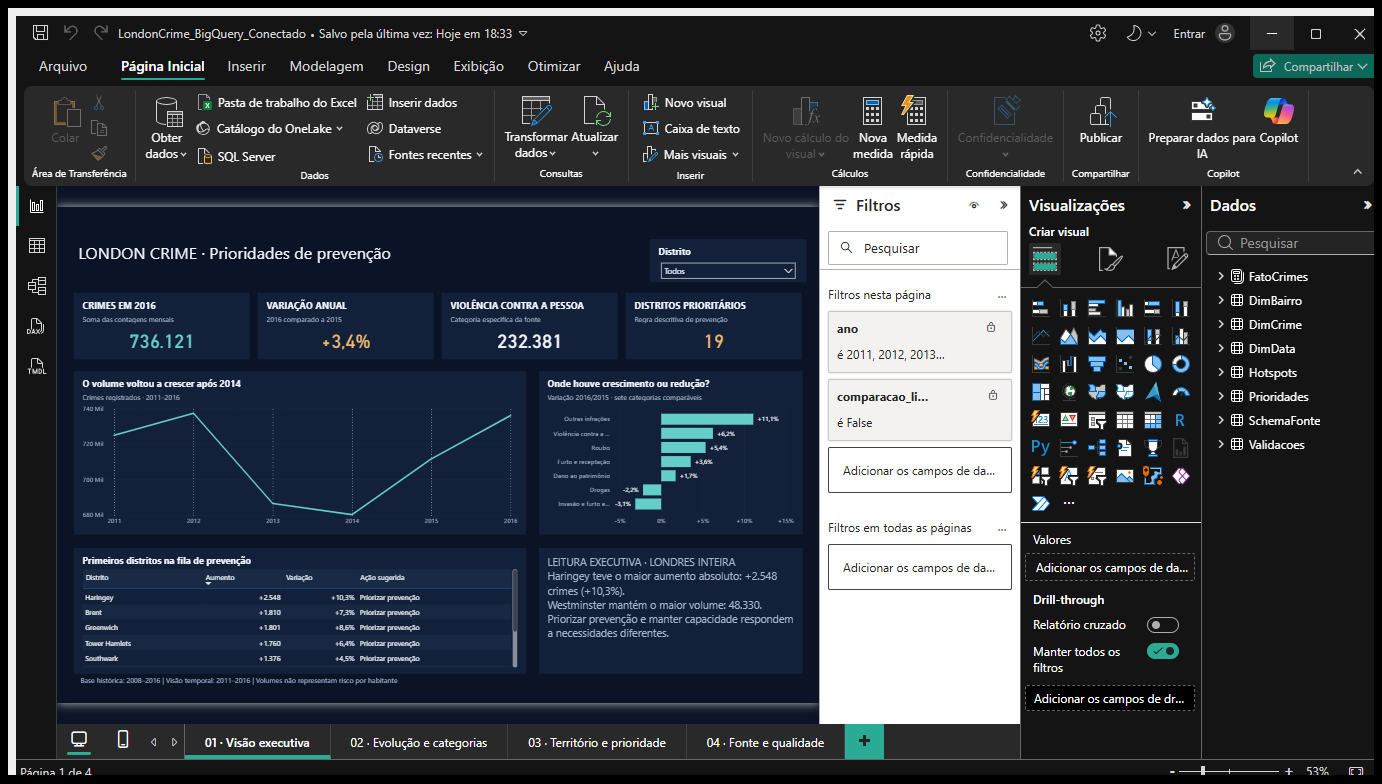

The page's visual inventory and layout, read from the dashboard file:
{"tool":"powerbi","page":{"name":"01 · Visão executiva","canvas":[1440,900],"ordinal":0},"visuals":[{"type":"textbox","box":[24,16,1050,90],"z":0},{"type":"slicer","title":"Distrito","fields":{"Values":["DimBairro.bairro"]},"box":[1120,22,296,82],"z":0},{"type":"card","title":"CRIMES EM 2016","fields":{"Values":["FatoCrimes.Crimes referência"]},"box":[32,124,332,125],"z":0},{"type":"card","title":"VARIAÇÃO ANUAL","fields":{"Values":["FatoCrimes.Variação referência %"]},"box":[380,124,332,125],"z":0},{"type":"card","title":"VIOLÊNCIA CONTRA A PESSOA","fields":{"Values":["FatoCrimes.Violência referência"]},"box":[728,124,332,125],"z":0},{"type":"card","title":"DISTRITOS PRIORITÁRIOS","fields":{"Values":["FatoCrimes.Distritos prioritários"]},"box":[1076,124,332,125],"z":0},{"type":"lineChart","title":"O volume voltou a crescer após 2014","fields":{"Category":["DimData.ano"],"Y":["FatoCrimes.Crimes"]},"box":[32,273,854,309],"z":0},{"type":"clusteredBarChart","title":"Onde houve crescimento ou redução?","fields":{"Category":["DimCrime.categoria"],"Y":["FatoCrimes.Variação referência %"]},"box":[910,273,498,309],"z":0},{"type":"tableEx","title":"Primeiros distritos na fila de prevenção","fields":{"Values":["DimBairro.bairro","FatoCrimes.Aumento prioridade","FatoCrimes.Variação prioridade %","Prioridades.prioridade"]},"box":[32,606,854,238],"z":0},{"type":"textbox","box":[910,606,498,238],"z":0},{"type":"textbox","box":[28,835,1380,65],"z":0}]}

Visuals, with their boxes on the page's 1440x900 design canvas (x1, y1, x2, y2). These are canvas units, not pixel positions in the 1382x784 screenshot, which may show the page scaled, cropped or inside an application window:
textbox: (24,16,1074,106)
"Distrito" slicer: (1120,22,1416,104)
"CRIMES EM 2016" card: (32,124,364,249)
"VARIAÇÃO ANUAL" card: (380,124,712,249)
"VIOLÊNCIA CONTRA A PESSOA" card: (728,124,1060,249)
"DISTRITOS PRIORITÁRIOS" card: (1076,124,1408,249)
"O volume voltou a crescer após 2014" lineChart: (32,273,886,582)
"Onde houve crescimento ou redução?" clusteredBarChart: (910,273,1408,582)
"Primeiros distritos na fila de prevenção" tableEx: (32,606,886,844)
textbox: (910,606,1408,844)
textbox: (28,835,1408,900)
